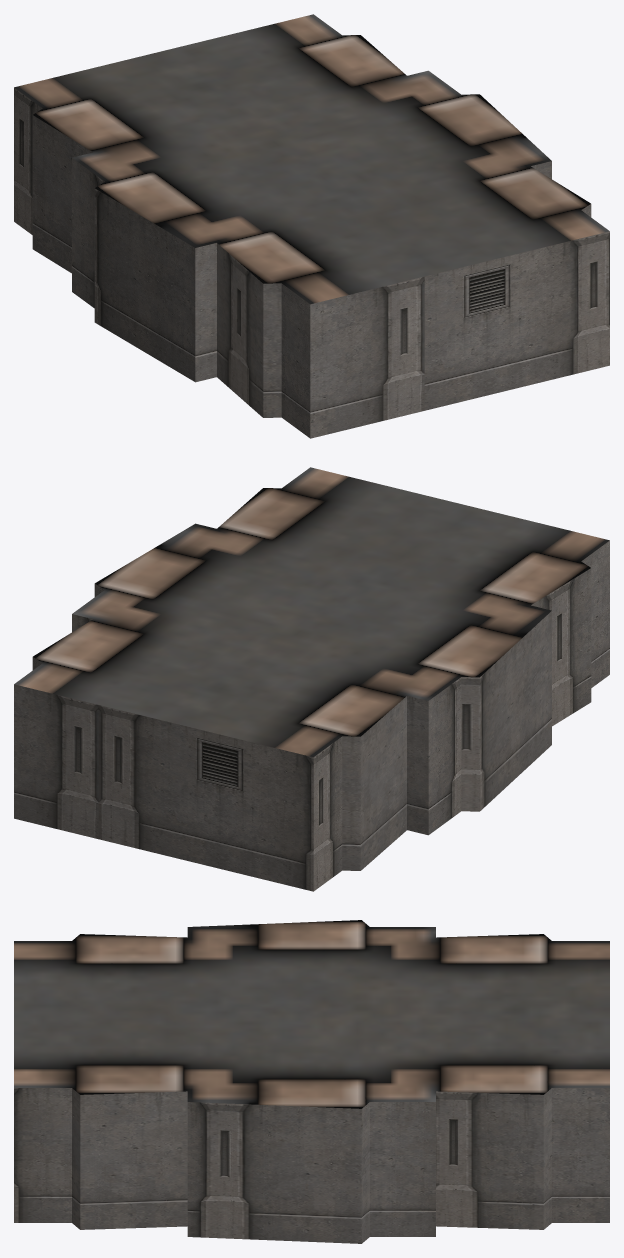
Rendered from building_hard_09.glb.
3 renders of one model, top to bottom at view 1: azimuth 30°, elevation 25°; view 2: azimuth 150°, elevation 25°; view 3: azimuth 270°, elevation 25°, orthographic.
Parts seen in each view (by area): view 1: buildings/saxarba/building_hard/building_hard_09; view 2: buildings/saxarba/building_hard/building_hard_09; view 3: buildings/saxarba/building_hard/building_hard_09.
Boxes of the visible parts, left/top/right/bottom form: buildings/saxarba/building_hard/building_hard_09: left=14, top=14, right=609, bottom=438; buildings/saxarba/building_hard/building_hard_09: left=14, top=467, right=609, bottom=891; buildings/saxarba/building_hard/building_hard_09: left=14, top=920, right=609, bottom=1243.
Bounding box in the file's own units: 54 × 18 × 72.
